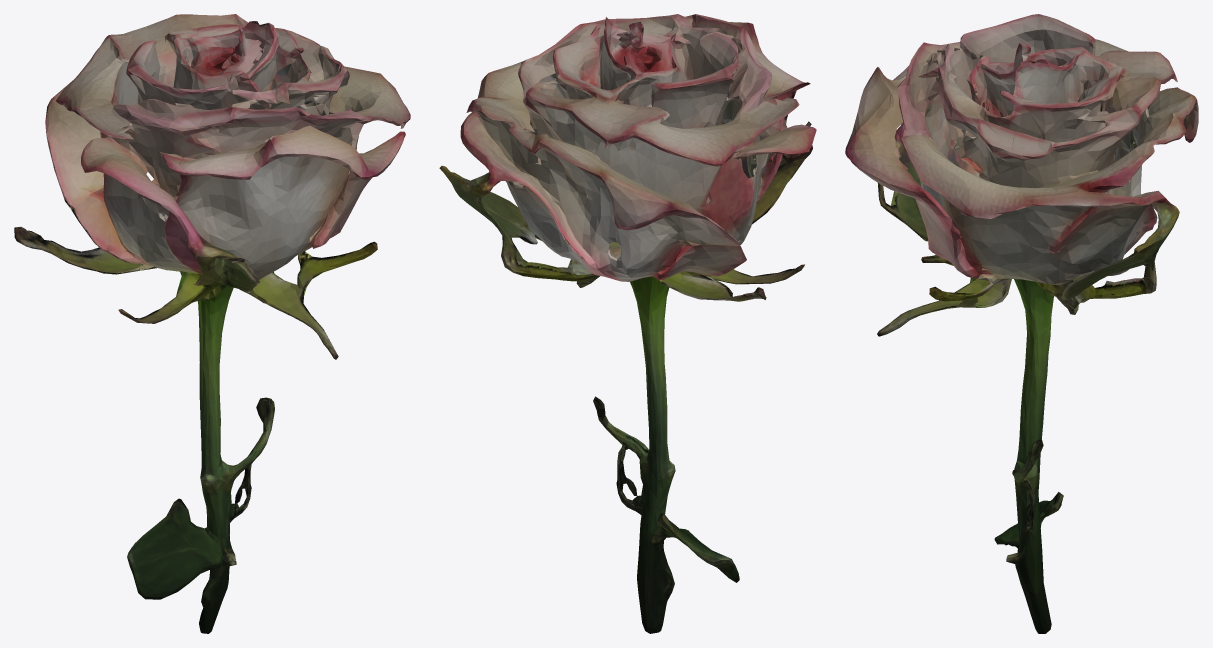
3 views of the same model, side by side, from view 1: azimuth 30°, elevation 25°; view 2: azimuth 150°, elevation 25°; view 3: azimuth 270°, elevation 25° (orthographic).
Parts seen in each view (by area): view 1: world; view 2: world; view 3: world.
Boxes of the visible parts, <box> form: world: <box>14,14,410,633</box>; world: <box>439,14,816,633</box>; world: <box>845,14,1198,633</box>.
Size of the model in its own units: 0.5489 by 0.9628 by 0.5122.
1 material, 1 textured.
